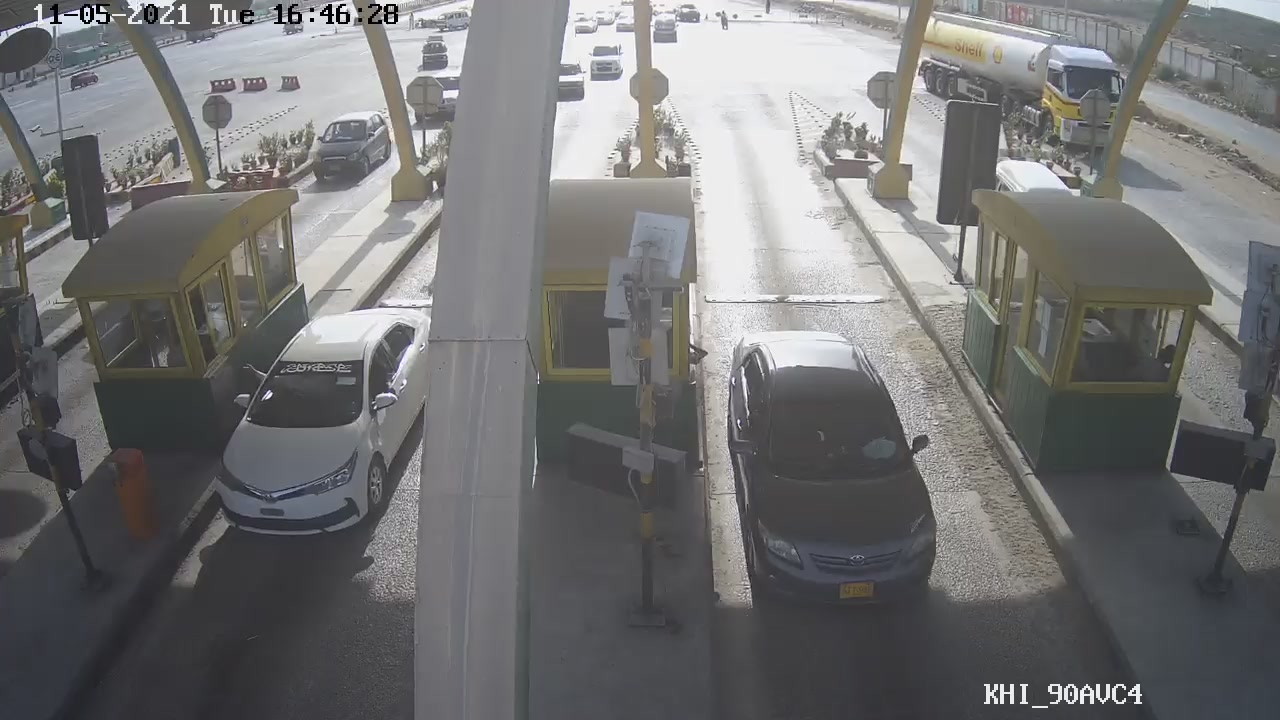F1: (711, 323, 963, 609)
